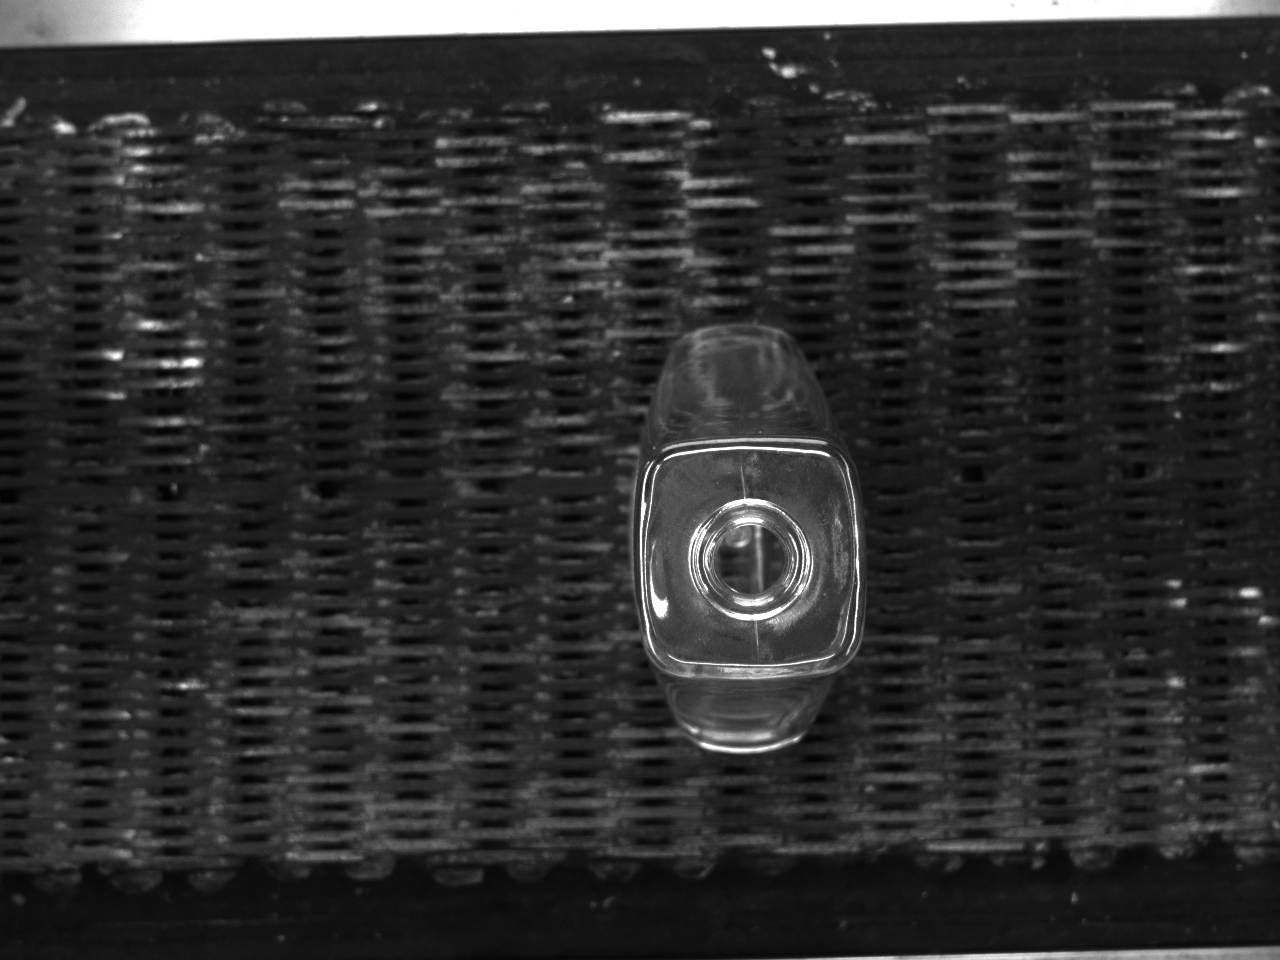bottleneck: (686, 498, 812, 620)
